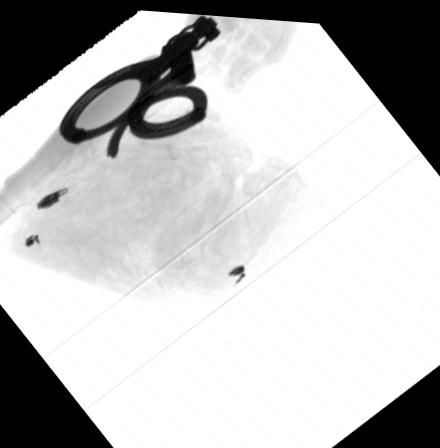Gun: (160, 12, 223, 85)
HandCuffs: (57, 11, 226, 158)
